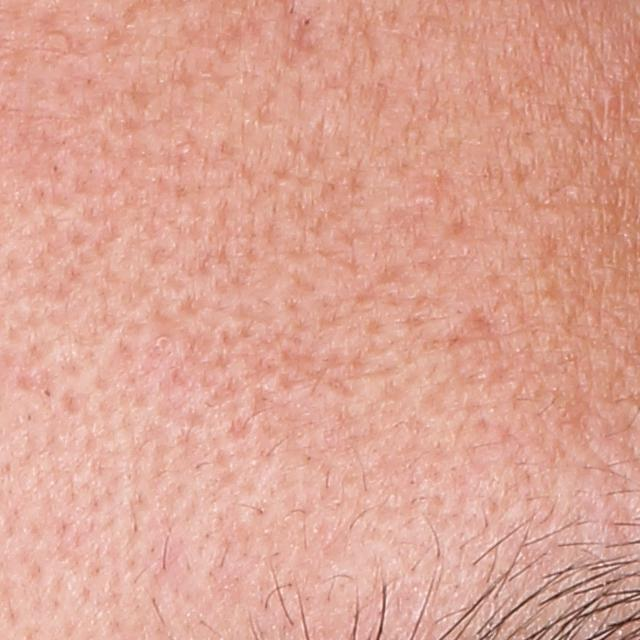comedo: (594, 86, 619, 109), (414, 189, 439, 207)
